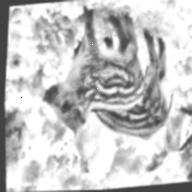boar: (37, 0, 163, 127), (86, 26, 192, 143)
